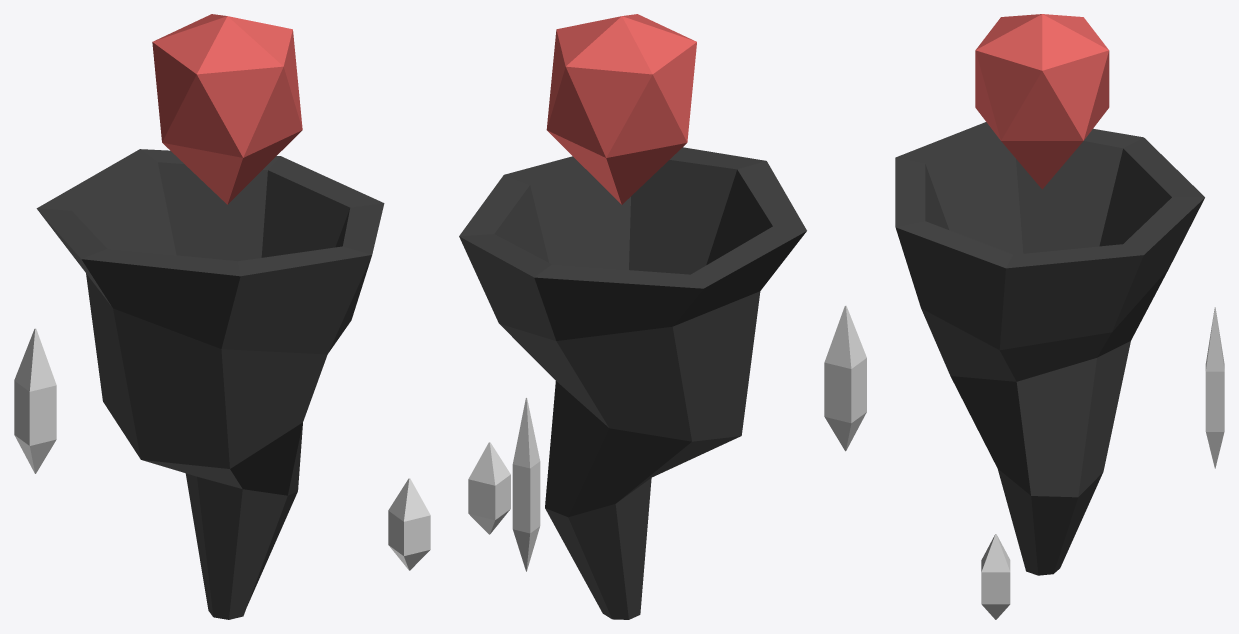
The model's file is tornado przeciwnik.fbx.
3 renders of one model, left to right at view 1: azimuth 30°, elevation 25°; view 2: azimuth 150°, elevation 25°; view 3: azimuth 270°, elevation 25°, orthographic. The views are drawn at different scales.
Visible parts, largest first — view 1: tornado, head, crystal1, crystal3; view 2: tornado, head, crystal1, crystal2, crystal3; view 3: tornado, head, crystal2, crystal3.
Boxes of the visible parts, left/top/right/bottom form: tornado: left=36, top=149, right=384, bottom=619; head: left=152, top=14, right=302, bottom=204; crystal1: left=14, top=328, right=56, bottom=473; crystal3: left=388, top=478, right=430, bottom=570; tornado: left=459, top=147, right=806, bottom=619; head: left=546, top=14, right=696, bottom=204; crystal1: left=824, top=305, right=866, bottom=451; crystal2: left=512, top=397, right=540, bottom=571; crystal3: left=468, top=442, right=510, bottom=534; tornado: left=895, top=122, right=1204, bottom=575; head: left=975, top=14, right=1109, bottom=189; crystal2: left=1205, top=307, right=1224, bottom=468; crystal3: left=981, top=534, right=1010, bottom=619.
Bounding box in the file's own units: 450 × 654 × 352.
